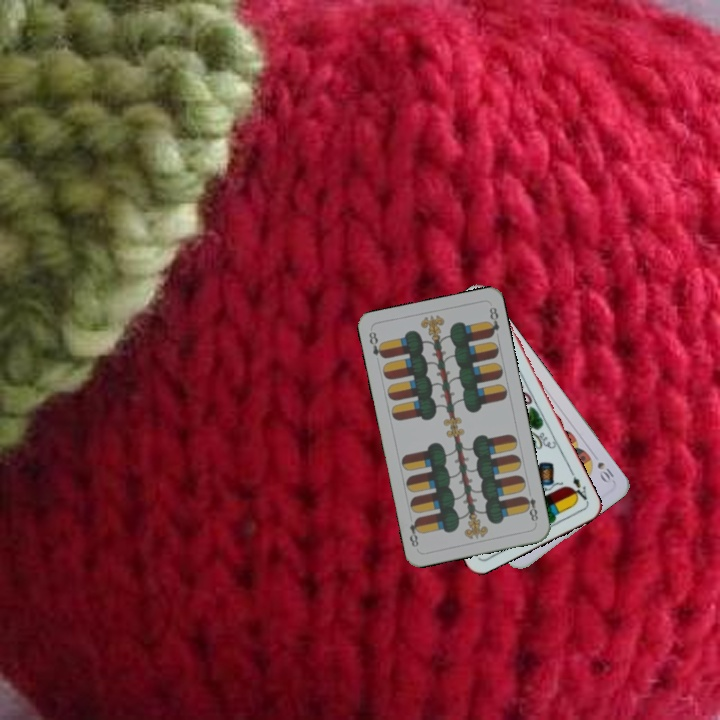E8: (365, 328, 387, 361), (520, 492, 541, 524)
EA: (567, 467, 591, 505)
S10: (593, 458, 617, 485)
